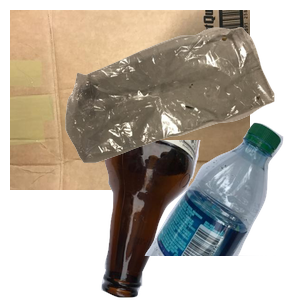cardboard: (10, 10, 250, 190)
glass: (99, 140, 300, 300)
plastic: (142, 120, 300, 300)
trash: (63, 24, 300, 179)
